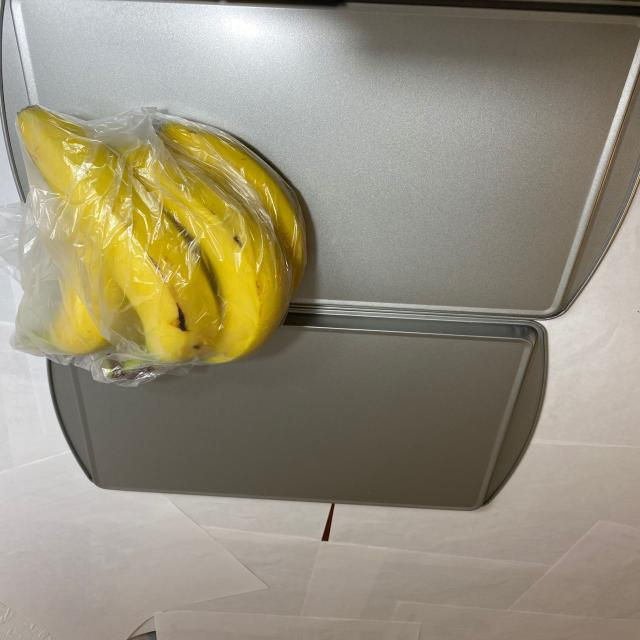banana: (14, 102, 319, 392)
